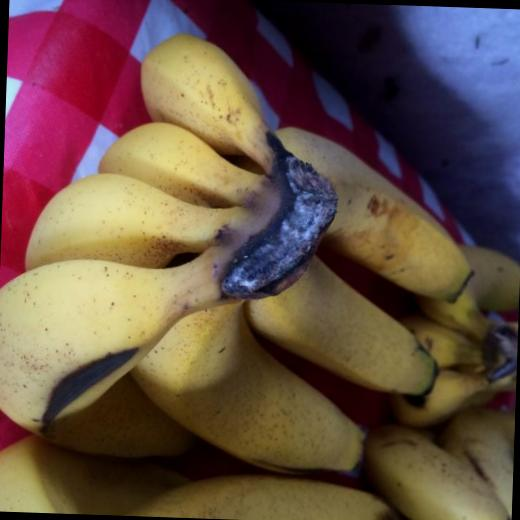Banana: (0, 26, 520, 520), (360, 421, 514, 520)
